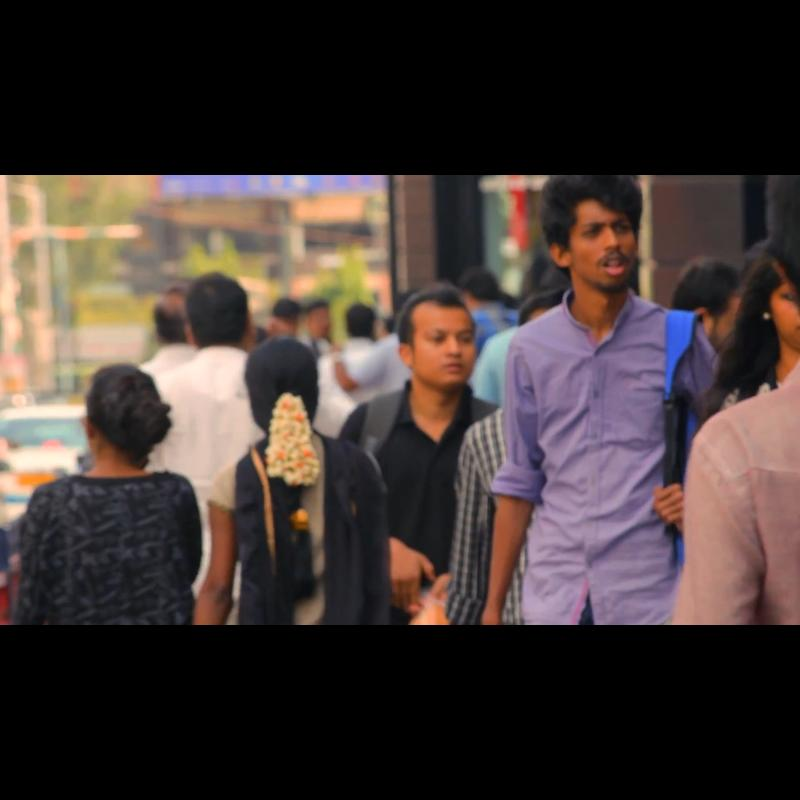Churidaar: (207, 424, 386, 625)
Shirt: (492, 299, 679, 625)
Tshirt: (10, 471, 206, 625)
